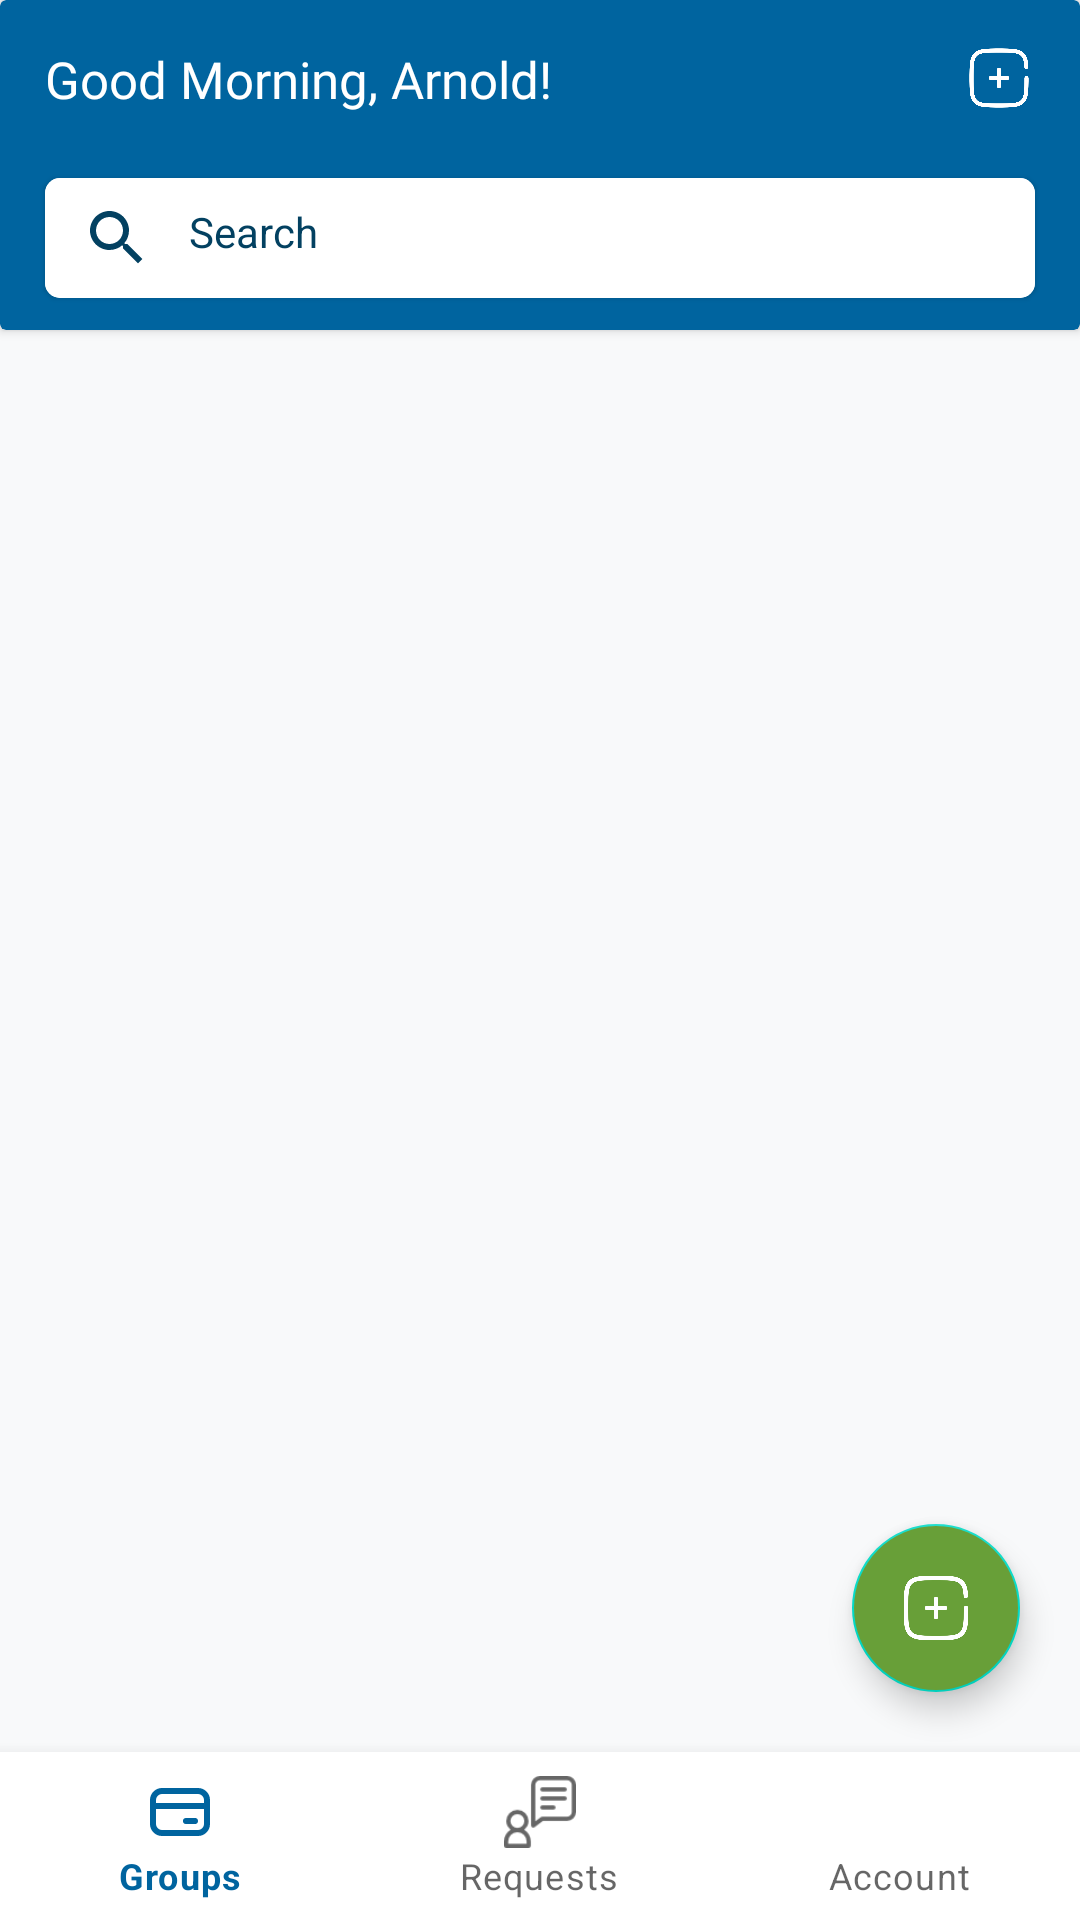

Where icons sit on this 1080*1920 app screen, as (x1, y1, x2, y2):
add: (969, 48, 1029, 108), (852, 1524, 1020, 1692)
